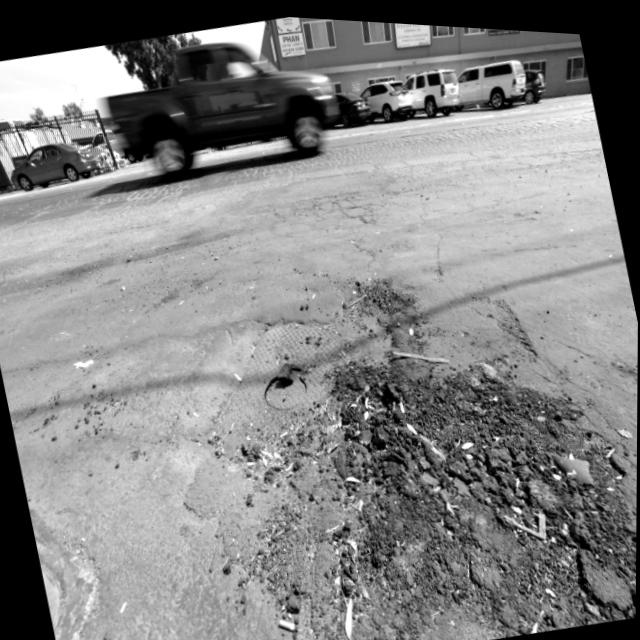pathole: (178, 229, 638, 640)
